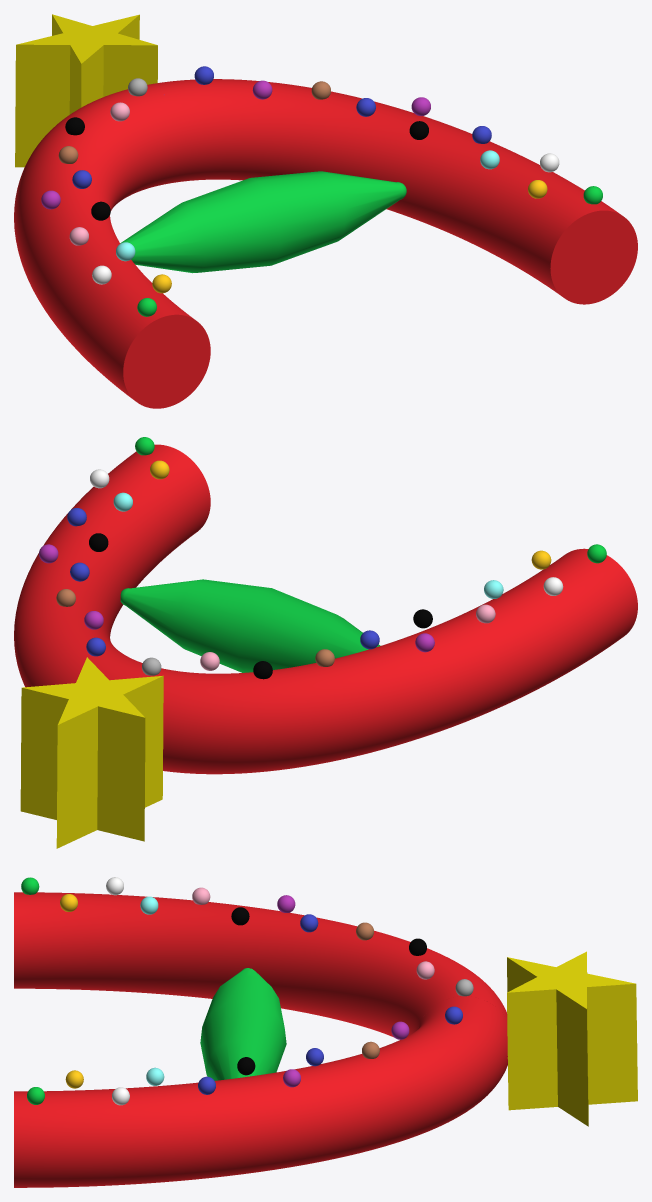
The model's file is letterADecorated.glb.
The picture shows the model from 3 angles, top to bottom: view 1: azimuth 30°, elevation 25°; view 2: azimuth 150°, elevation 25°; view 3: azimuth 270°, elevation 25°; orthographic projection. The views are drawn at different scales.
Parts seen in each view (by area): view 1: mesh_id42, mesh_id48, mesh_id52, mesh_id177; view 2: mesh_id48, mesh_id42, mesh_id177, mesh_id52; view 3: mesh_id42, mesh_id48, mesh_id177, mesh_id52.
Part boxes in pixels (x1=…): mesh_id42: x1=146, y1=79, x2=637, y2=304; mesh_id48: x1=14, y1=89, x2=210, y2=408; mesh_id52: x1=120, y1=171, x2=406, y2=273; mesh_id177: x1=15, y1=14, x2=157, y2=167; mesh_id48: x1=137, y1=548, x2=637, y2=774; mesh_id42: x1=14, y1=444, x2=210, y2=687; mesh_id177: x1=20, y1=657, x2=163, y2=848; mesh_id52: x1=120, y1=579, x2=380, y2=672; mesh_id42: x1=14, y1=996, x2=507, y2=1187; mesh_id48: x1=14, y1=892, x2=507, y2=1037; mesh_id177: x1=507, y1=951, x2=637, y2=1126; mesh_id52: x1=200, y1=968, x2=286, y2=1080.
Bounding box in the file's own units: 4.89 × 1.2 × 5.37.
14 materials, 14 textured.
